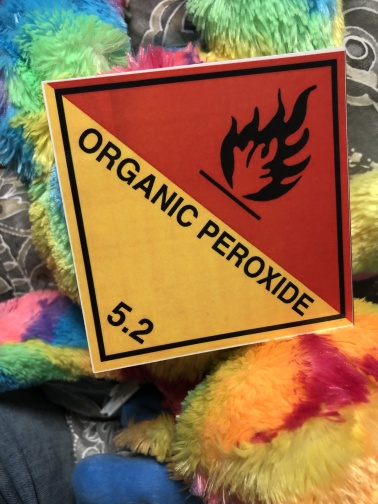OrganicPeroxide: (44, 50, 355, 374)
